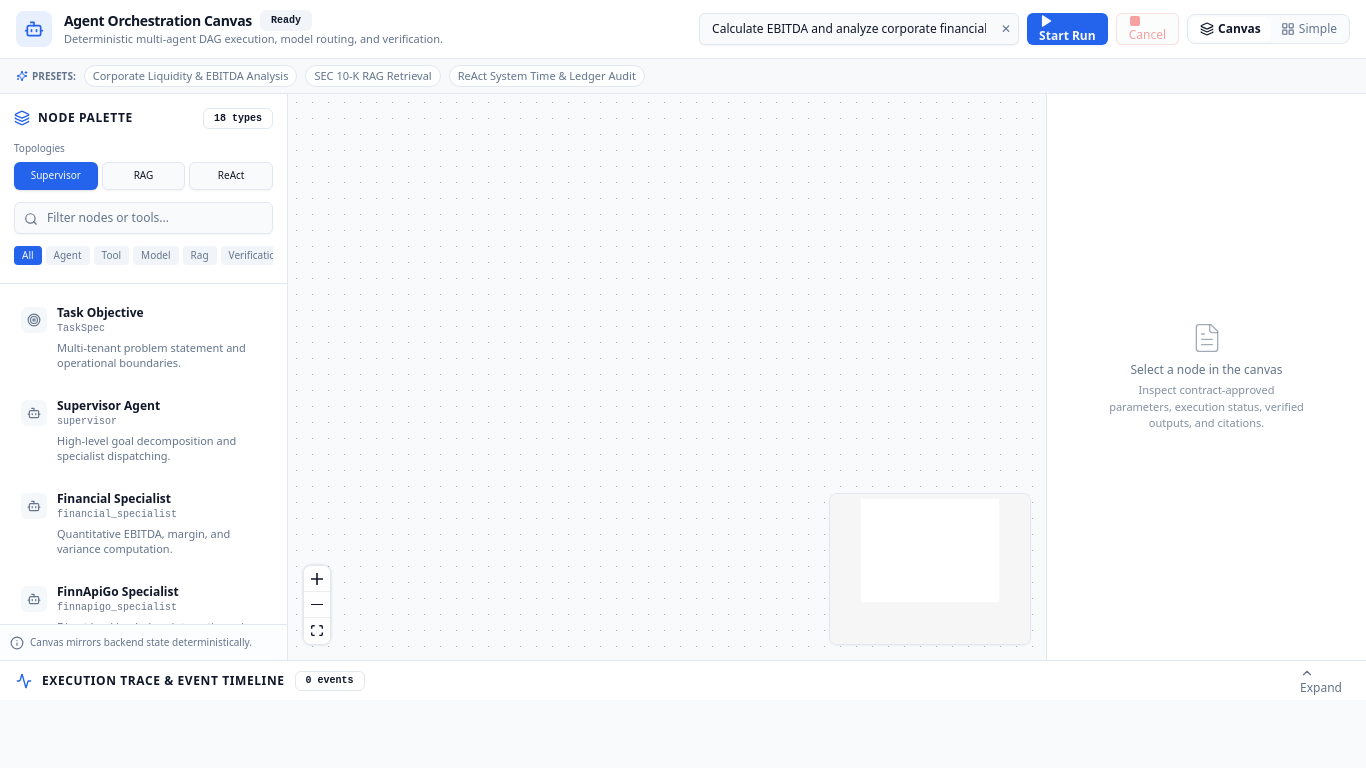
Scenario: Agent Execution SSE Stream Integration › handles disconnected stream error without crashing
This screenshot has width=1366, height=768.
Click the button with test id "start-run-button" at point(1067, 29), box [1027, 13, 1108, 45]
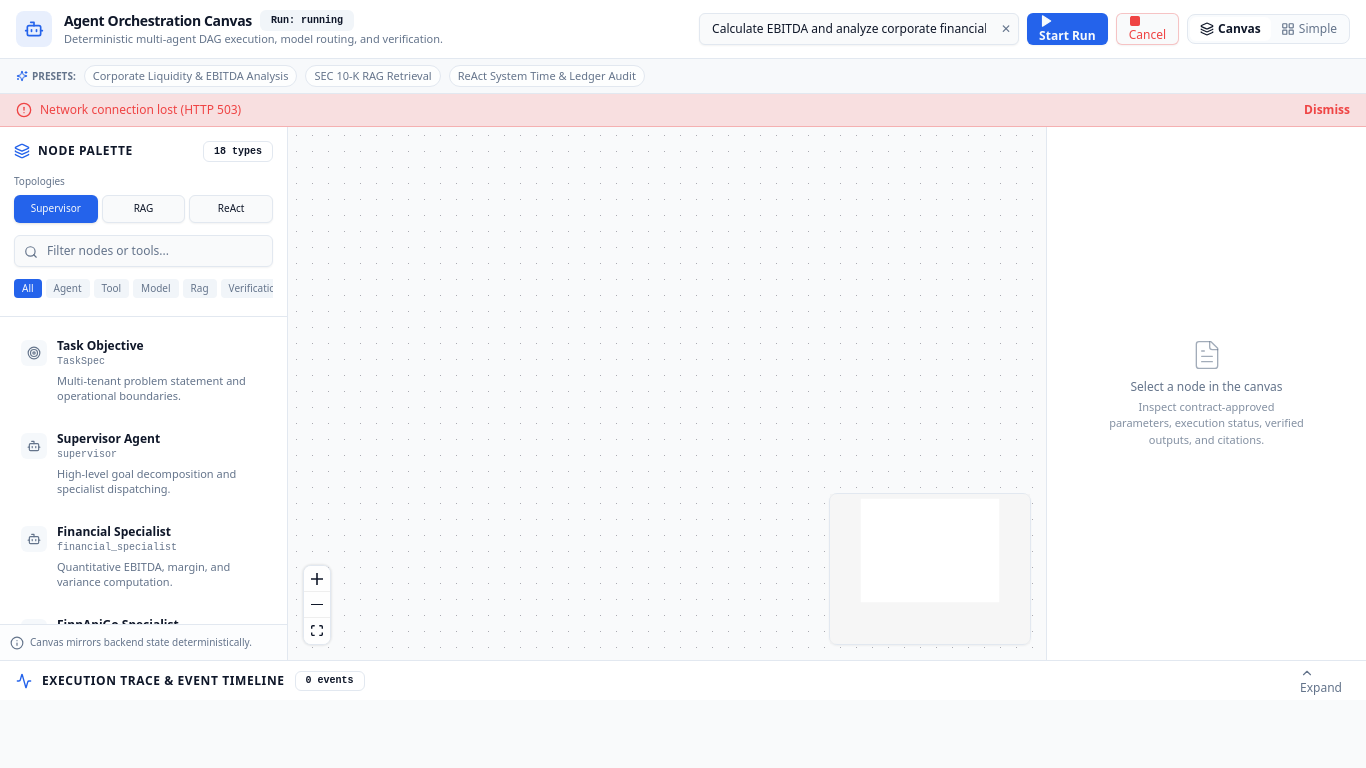
Now the text "Network connection lost (HTTP 503)" is shown, box [40, 102, 241, 118]
